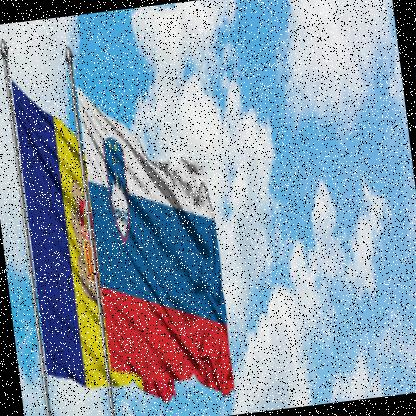si: (74, 71, 238, 413)
